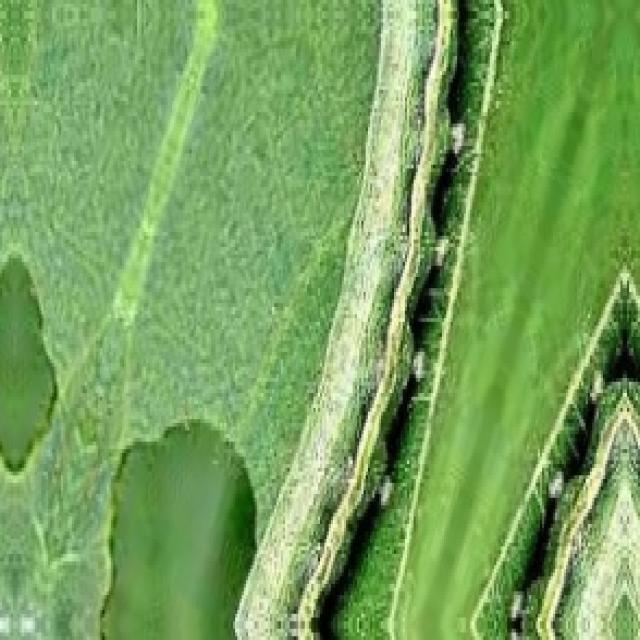Armyworm: (217, 1, 434, 640)
Armyworm_damage: (76, 351, 263, 640), (1, 234, 56, 501)
